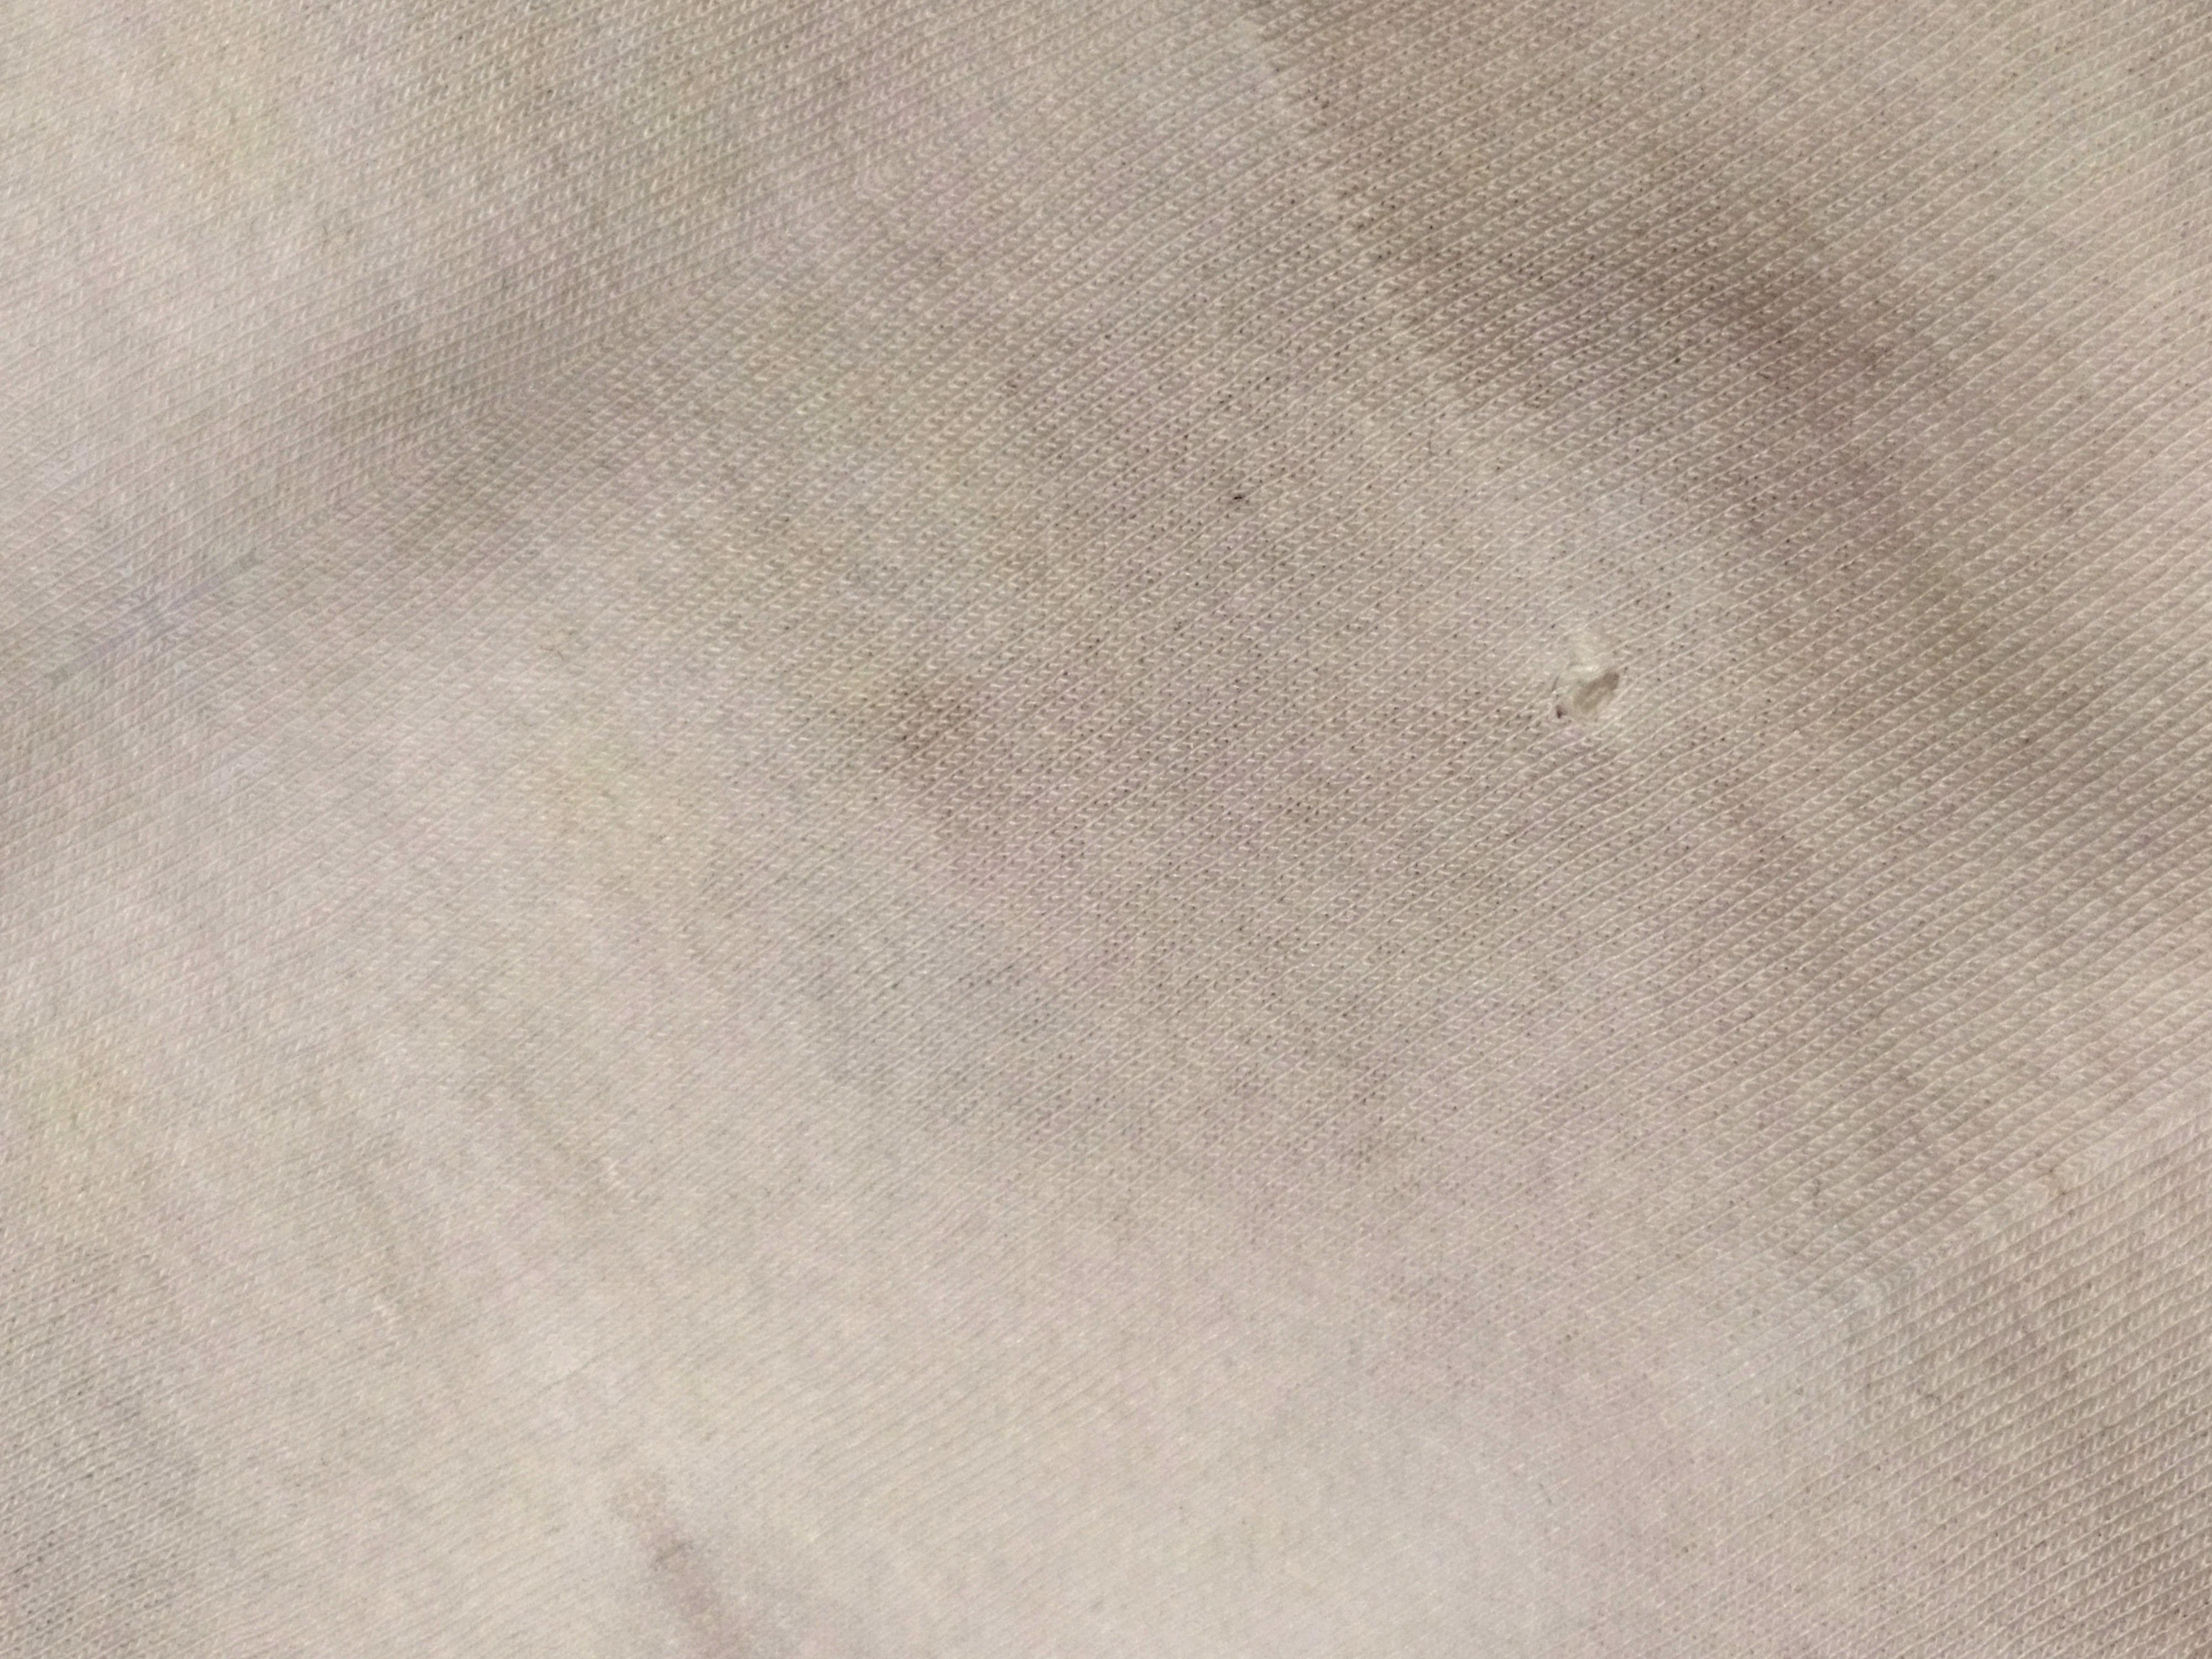knot: (1541, 638, 1649, 758)
